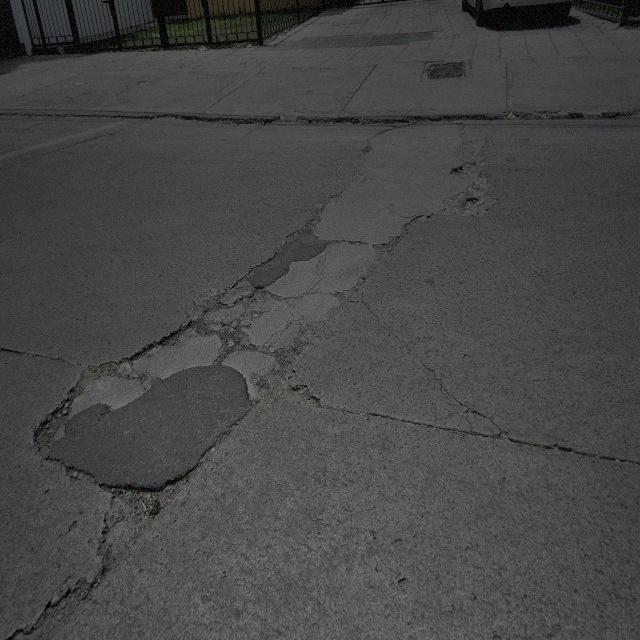pothole: (96, 459, 197, 576), (258, 353, 324, 414), (32, 387, 75, 464), (41, 576, 94, 627), (207, 310, 250, 363), (373, 229, 406, 266), (336, 276, 366, 308), (427, 60, 467, 80), (404, 213, 431, 234), (159, 328, 184, 348), (247, 285, 265, 306), (460, 197, 479, 213), (453, 163, 467, 174)
